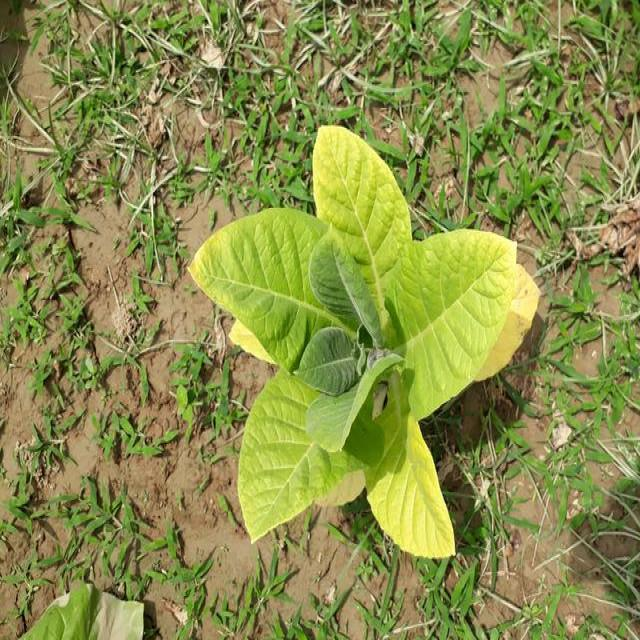crop: (182, 120, 546, 564)
